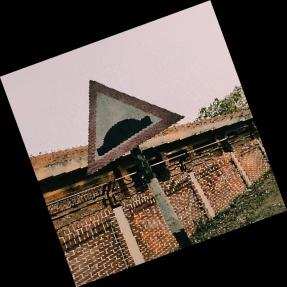Speed-breaker: (86, 79, 185, 176)
